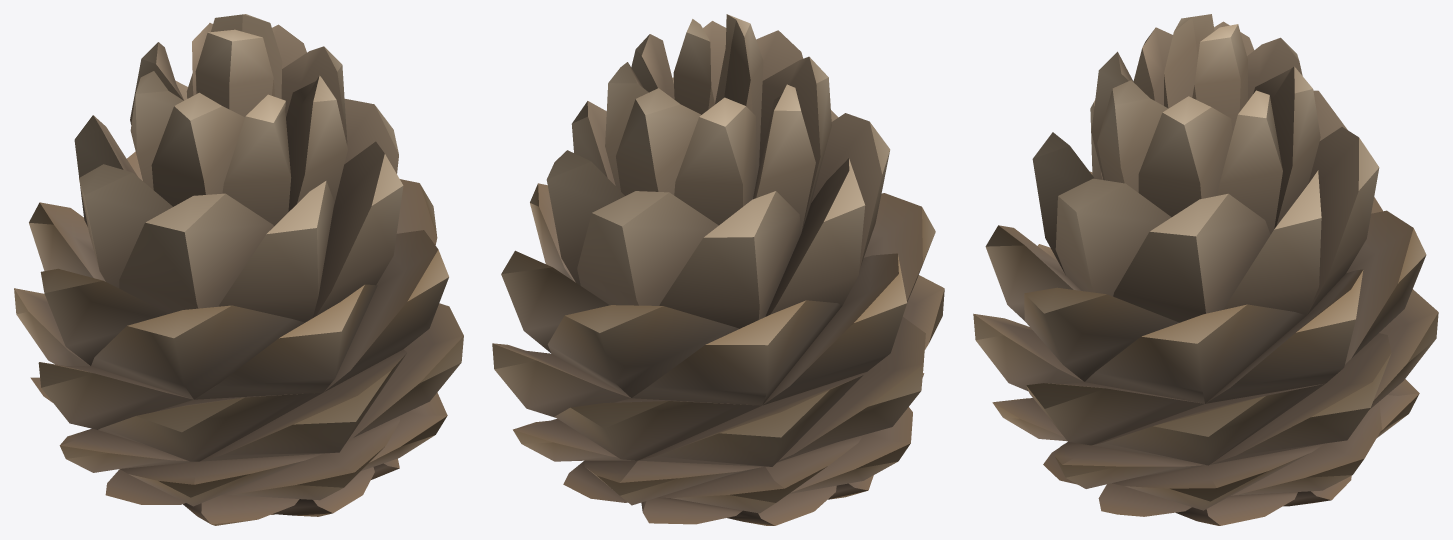
The model's file is Pinecone.gltf.
3 renders of one model, left to right at view 1: azimuth 30°, elevation 25°; view 2: azimuth 150°, elevation 25°; view 3: azimuth 270°, elevation 25°, orthographic.
Parts seen in each view (by area): view 1: Pinecone; view 2: Pinecone; view 3: Pinecone.
Boxes of the visible parts, x1,y1,x2,y2 form: Pinecone: (14, 14, 463, 525); Pinecone: (492, 14, 944, 525); Pinecone: (973, 14, 1438, 525).
Size of the model in its own units: 90.13 by 99.82 by 90.13.
